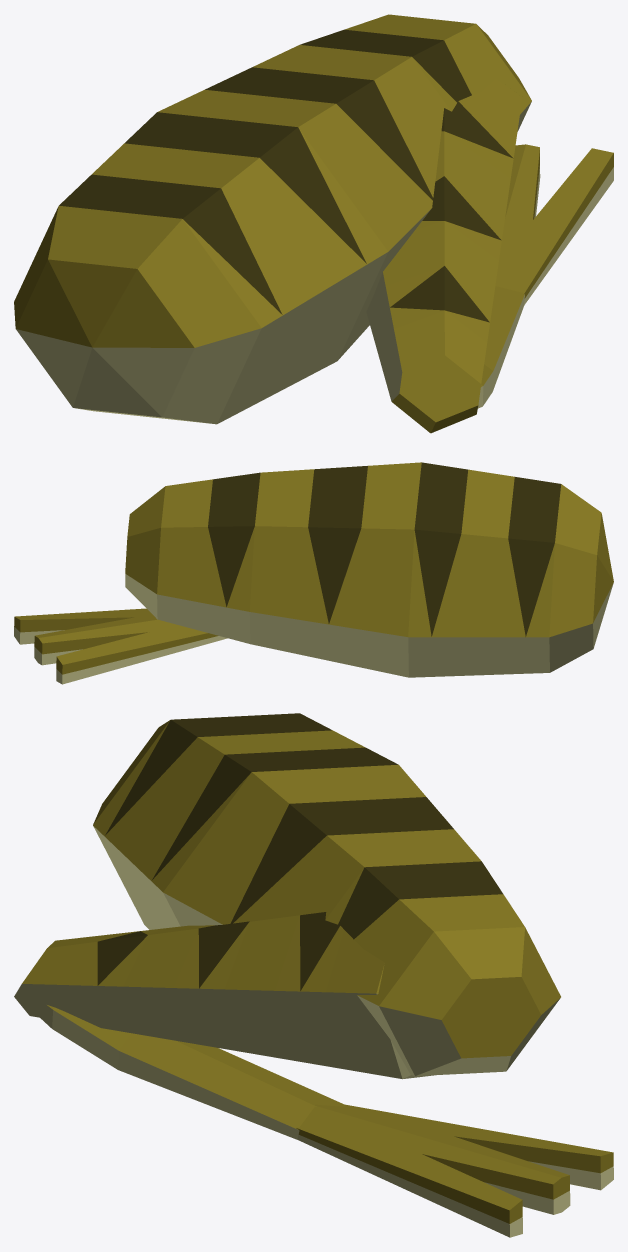
The model's file is tagumine jalg parem.fbx.
3 renders of one model, top to bottom at view 1: azimuth 30°, elevation 25°; view 2: azimuth 150°, elevation 25°; view 3: azimuth 270°, elevation 25°, orthographic. The views are drawn at different scales.
Parts seen in each view (by area): view 1: taguminejalg parem; view 2: taguminejalg parem; view 3: taguminejalg parem.
Part boxes in pixels (x1,y1,x2,y2): taguminejalg parem: (14,14,613,433); taguminejalg parem: (14,462,613,684); taguminejalg parem: (14,713,613,1237).
Bounding box in the file's own units: 30.9 × 11.04 × 23.2.
